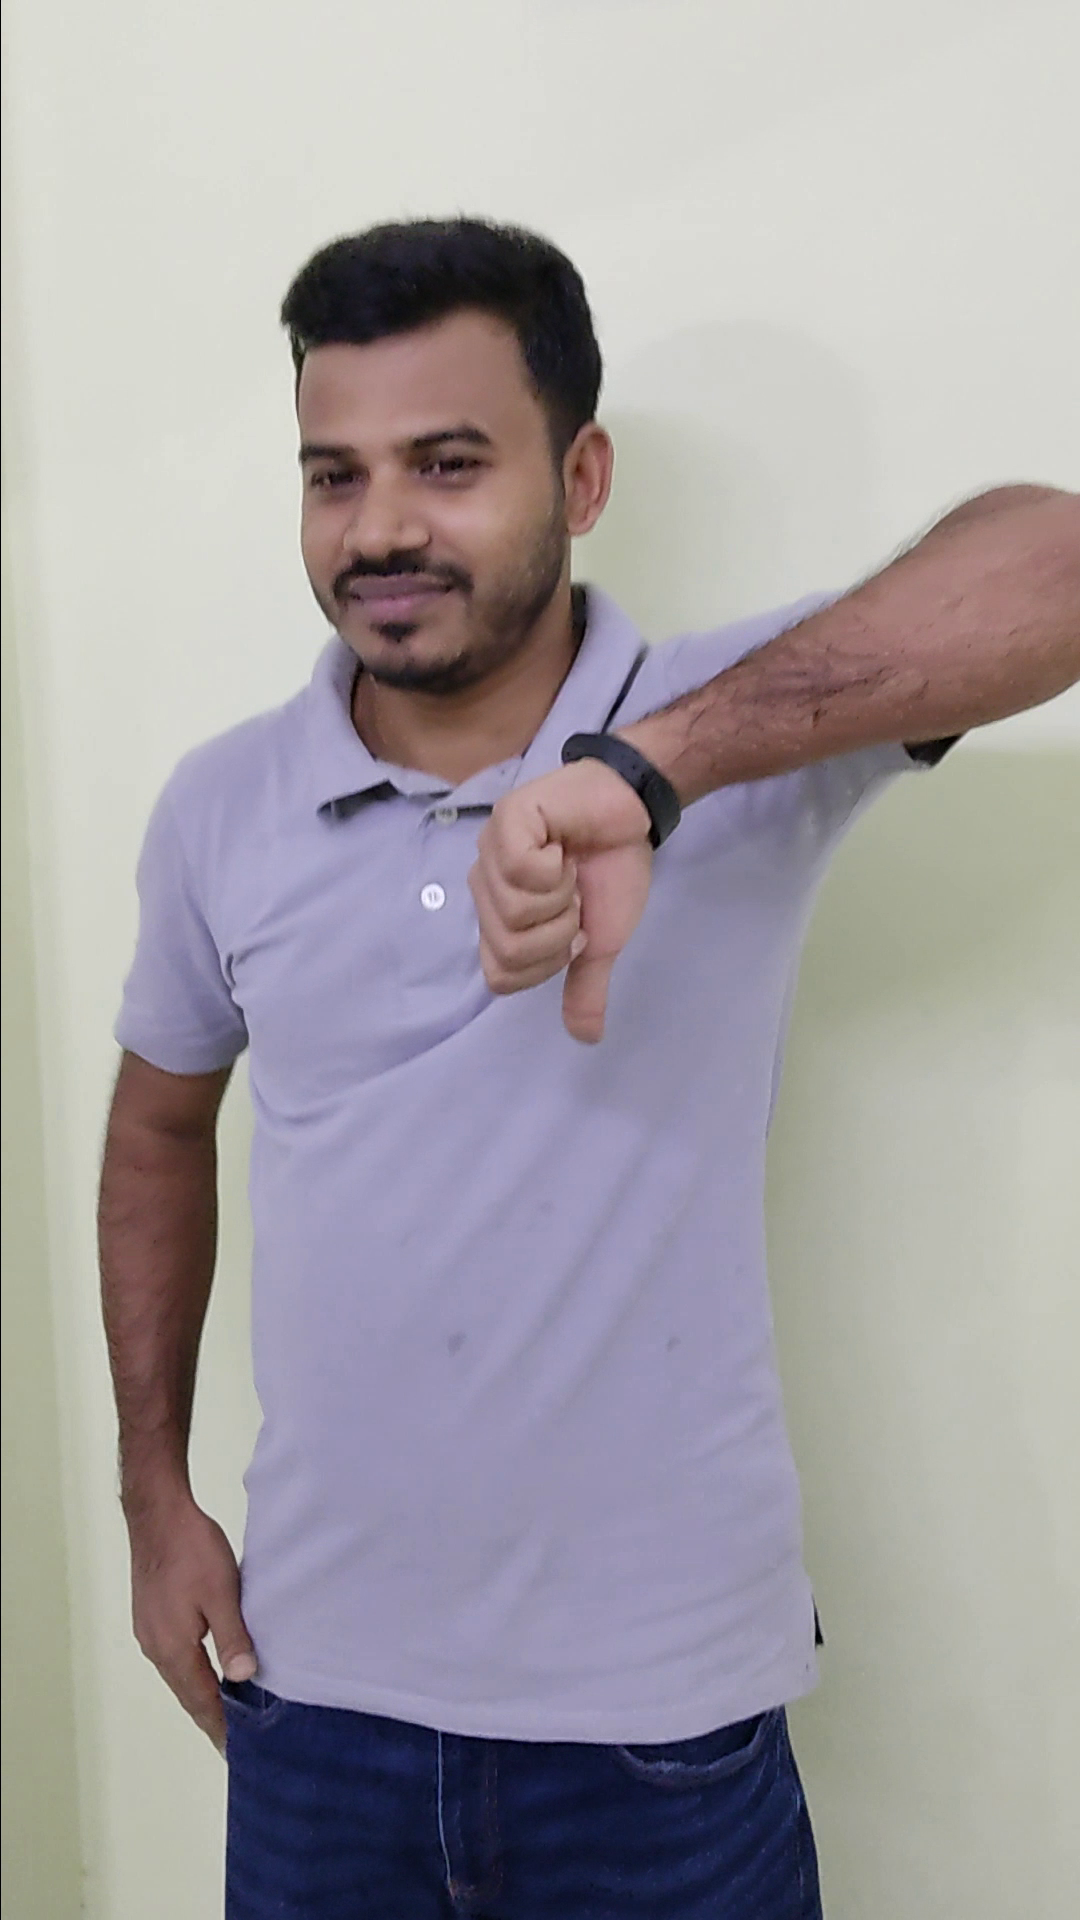Dislike: (444, 723, 669, 1060)
None: (109, 1478, 262, 1772)
